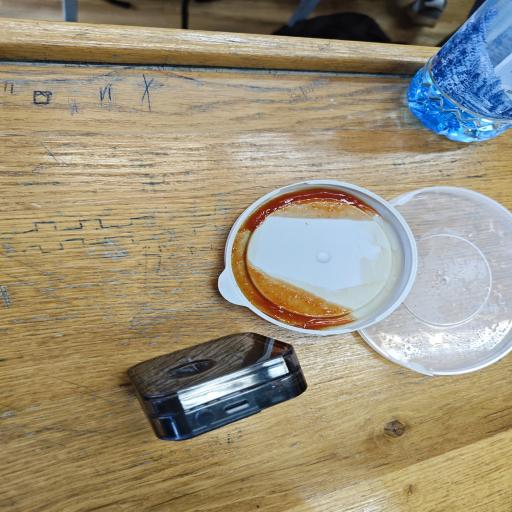Headphones: (118, 331, 315, 443)
